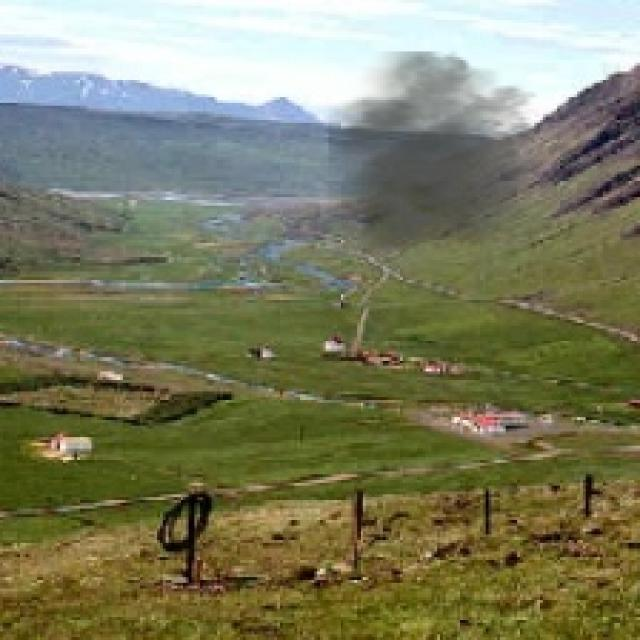Smoke: (328, 51, 560, 260)
